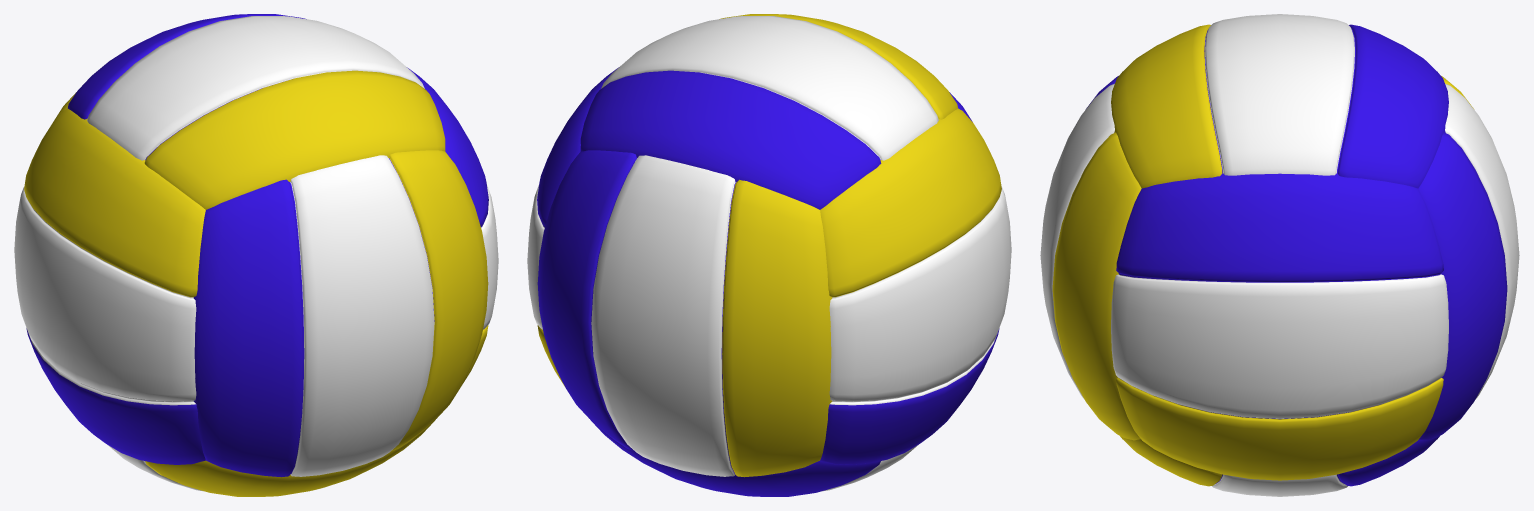
Rendered from volleyball.glb.
3 renders of one model, left to right at view 1: azimuth 30°, elevation 25°; view 2: azimuth 150°, elevation 25°; view 3: azimuth 270°, elevation 25°, orthographic.
Visible parts, largest first — view 1: Cube; view 2: Cube; view 3: Cube.
Boxes of the visible parts, bbox=[...] form: Cube: bbox=[14, 14, 498, 496]; Cube: bbox=[527, 14, 1011, 496]; Cube: bbox=[1040, 14, 1519, 496].
Size of the model in its own units: 2.51 by 2.51 by 2.51.
